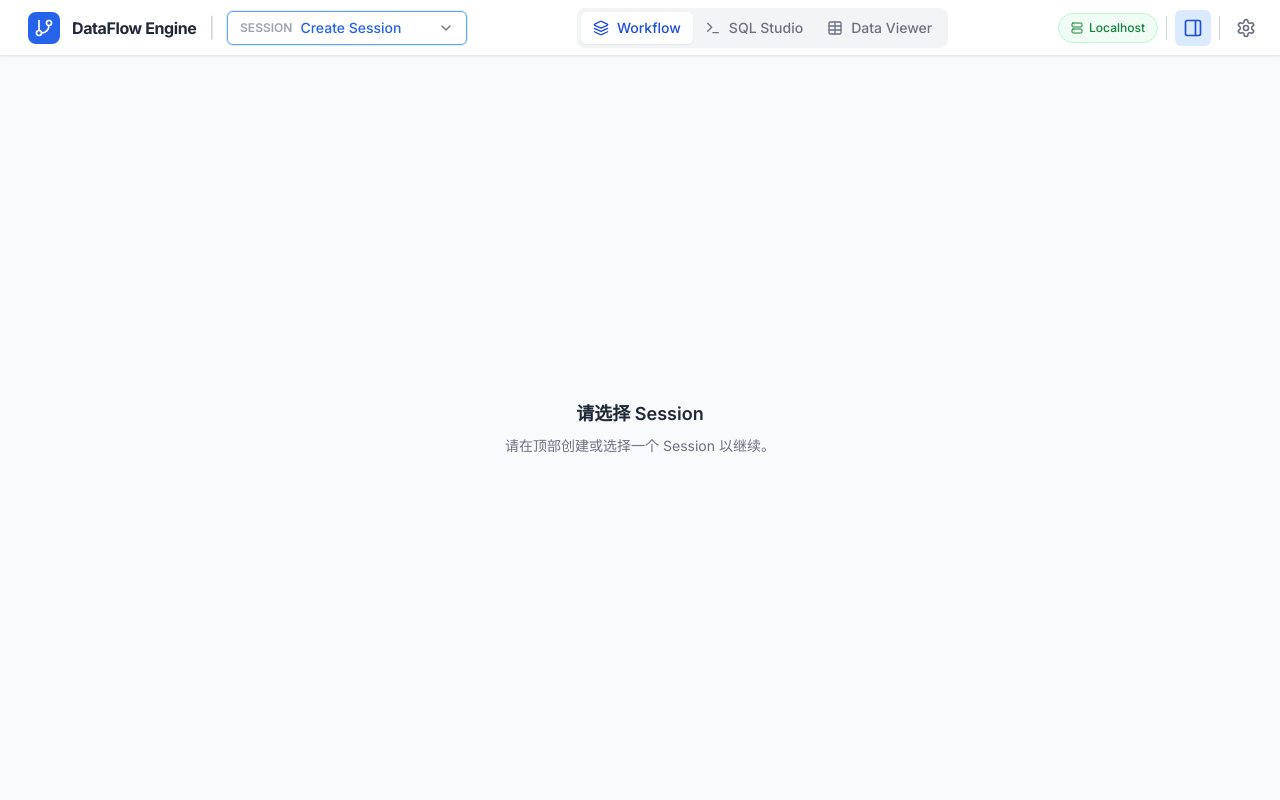
Test: Session diagnostics (UI) › renders empty sections when report has no sources or resolutions
Click the button "Session Create Session": x=347, y=28 [227,10,467,44]
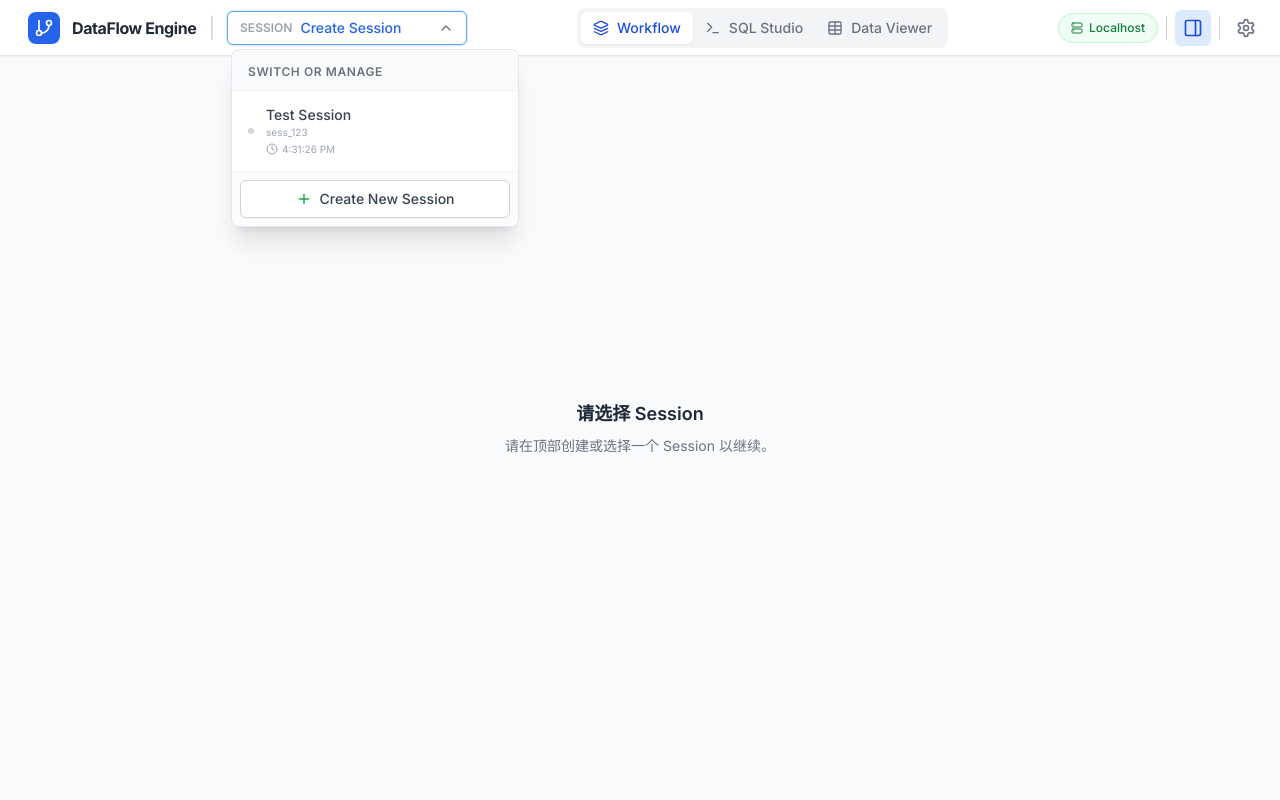
Click the text "Test Session": x=309, y=114 [266,104,351,124]
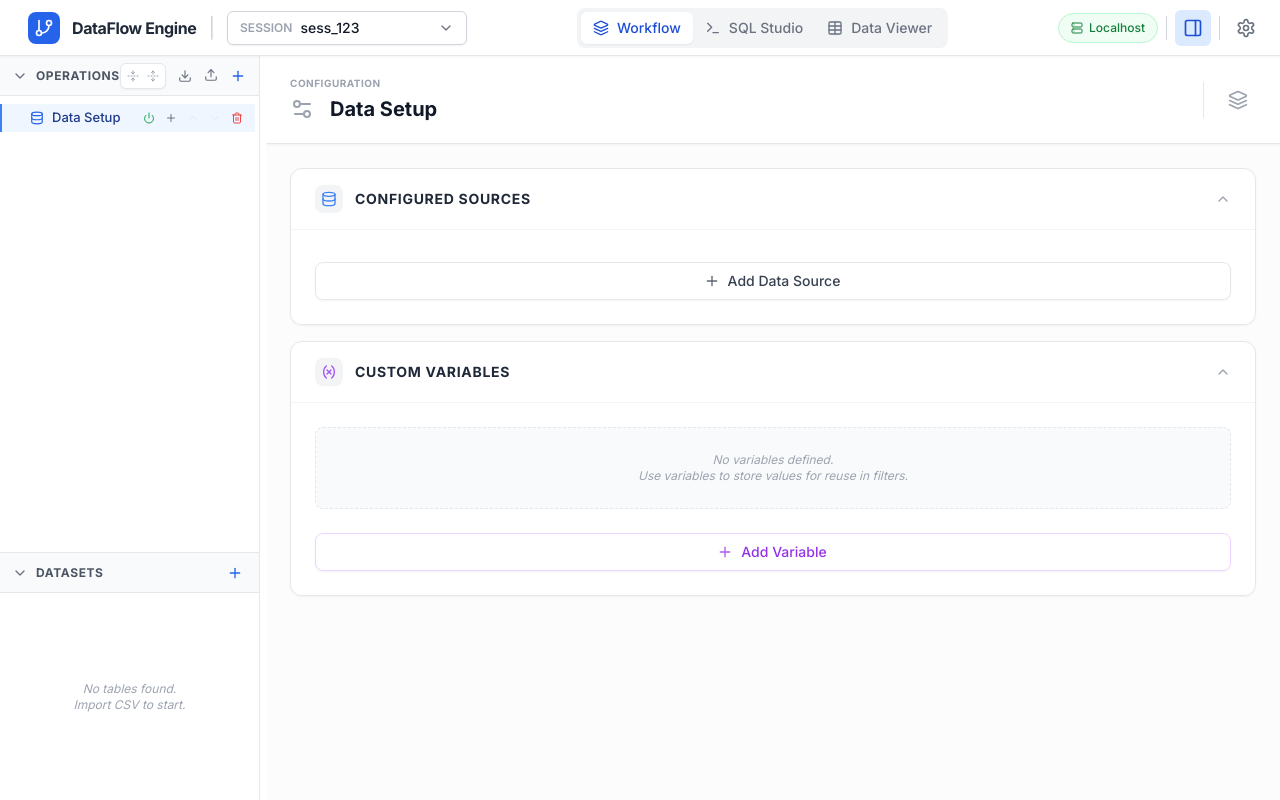
Click the button "Session sess_123": x=347, y=28 [227,10,467,44]
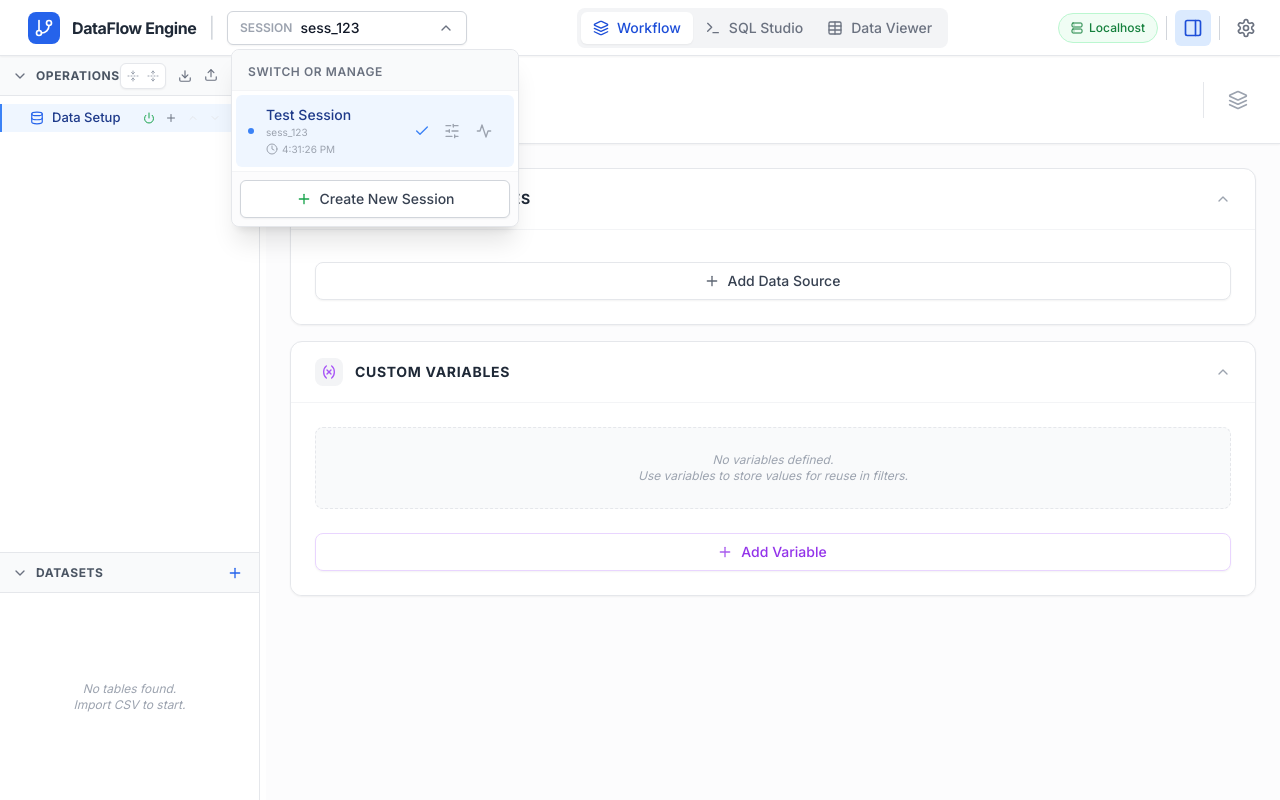
Click the button titled "Session Diagnostics": x=484, y=130 [470,116,498,144]
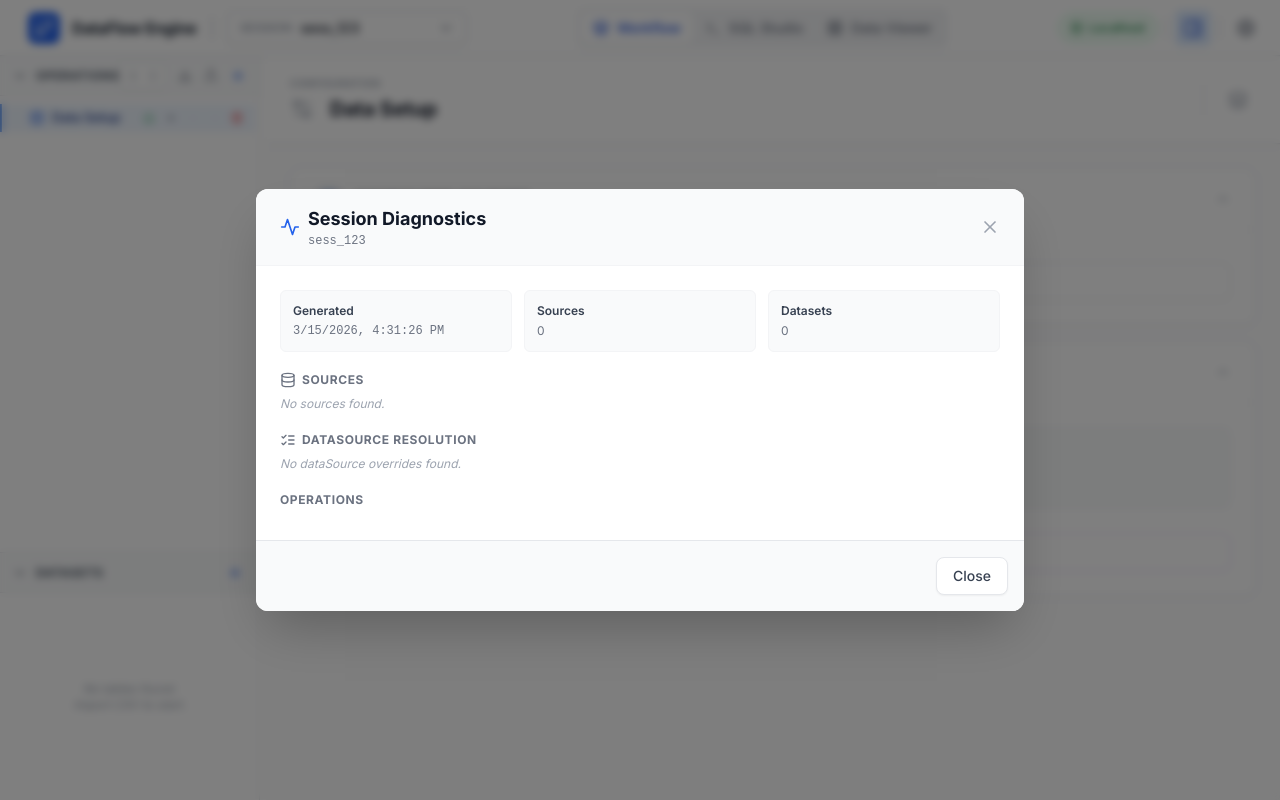
Result: the text "No sources found." is shown at [280,396,384,411]
Result: the text "No dataSource overrides found." is shown at [280,456,461,471]
